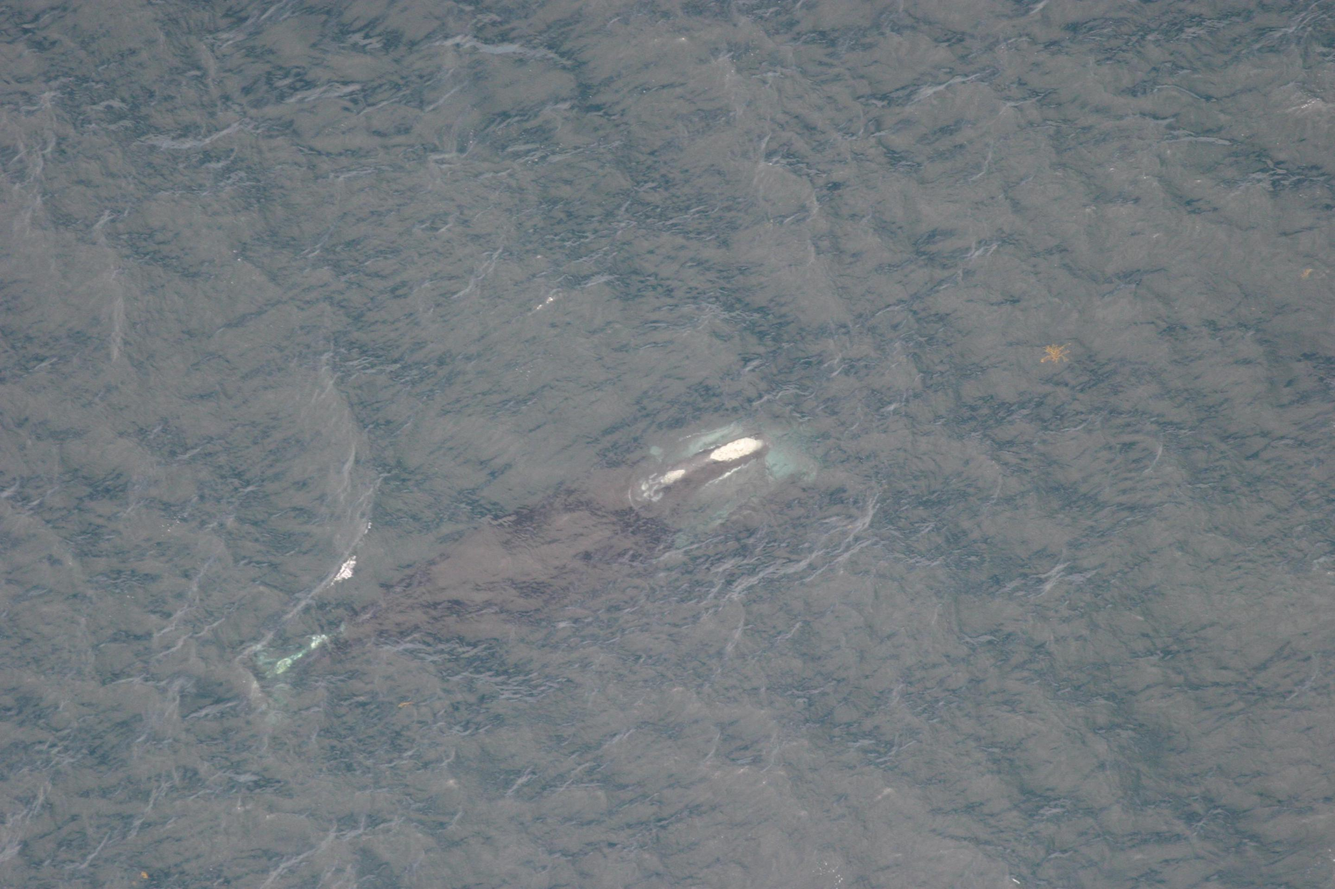whale: (184, 407, 798, 773)
